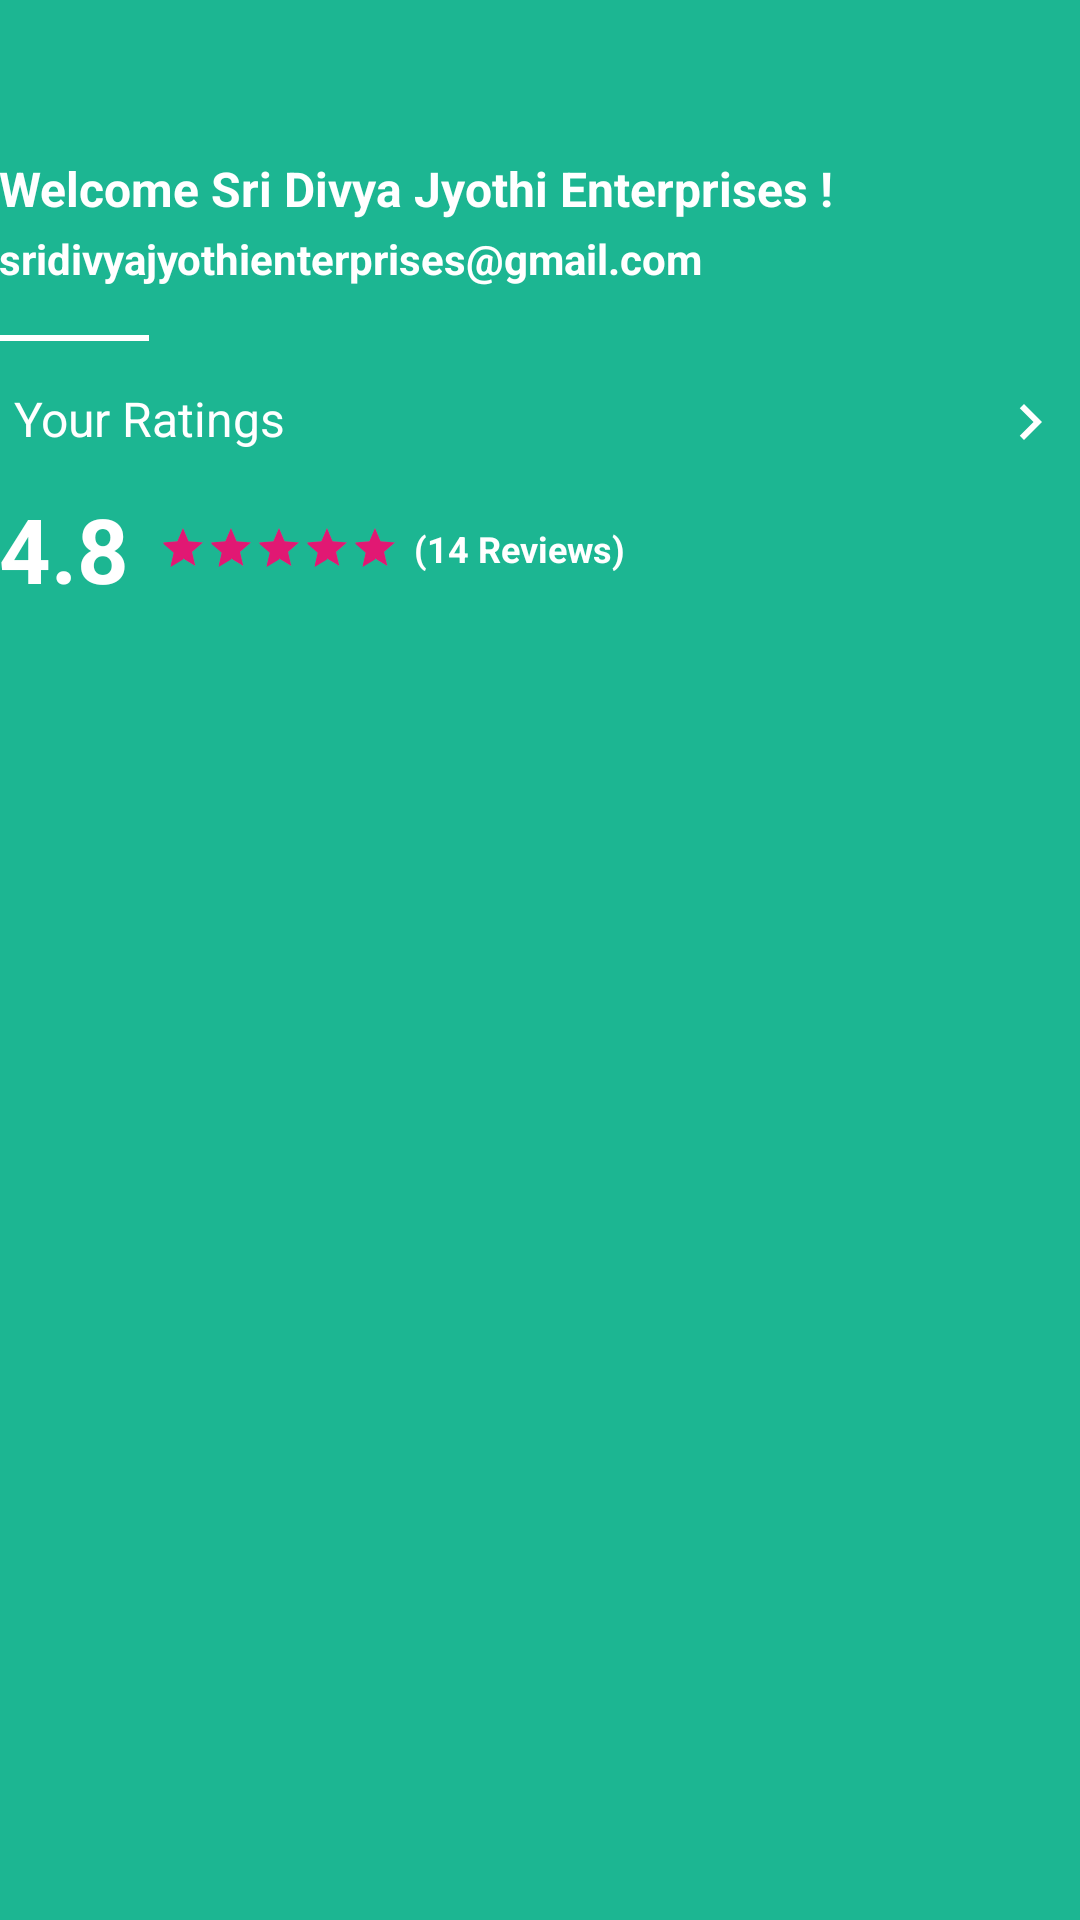

Screen size 1080w x 1920h. Icon name, then its box in pixels as (x1, y1, x2, y2):
chevron right: (1020, 404, 1042, 440)
